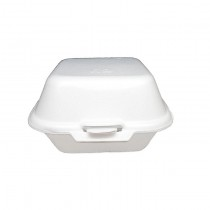Foam Box: (24, 54, 176, 156)
